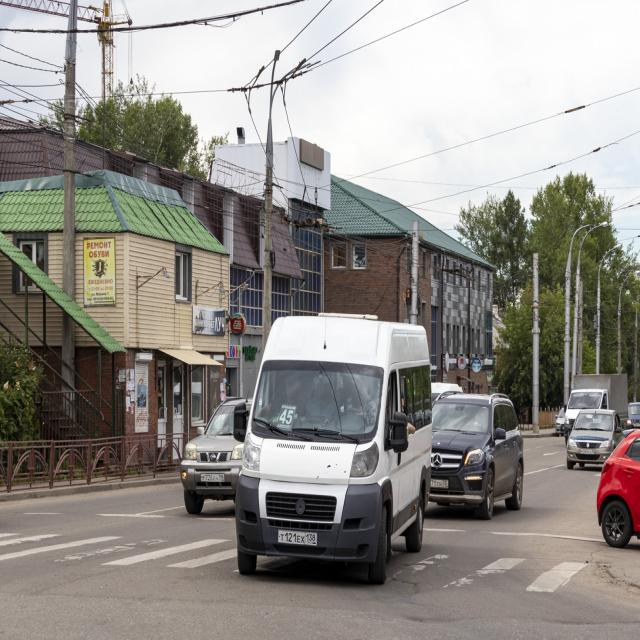number-of-bus: (280, 408, 294, 427)
